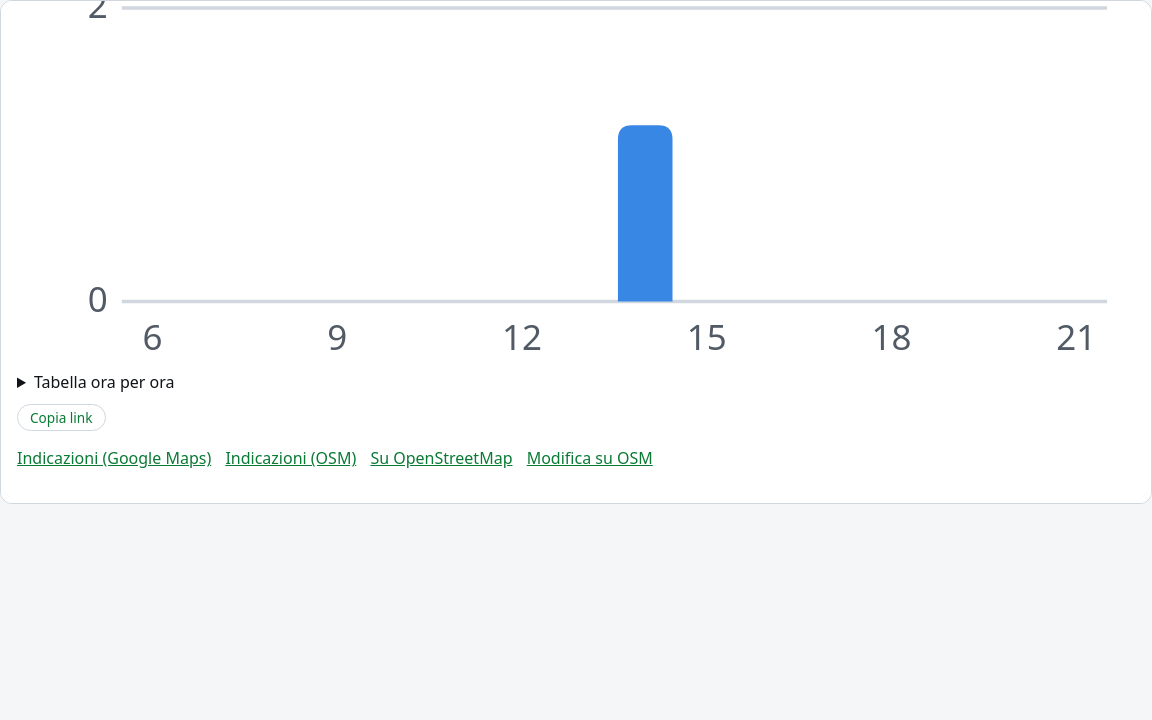
Test case: share (CG-44) › copies the link where the browser has no share sheet
(page scrolled)
Step 1. Click the button "Copia link" → coordinates (61, 418), box [17,404,106,431]
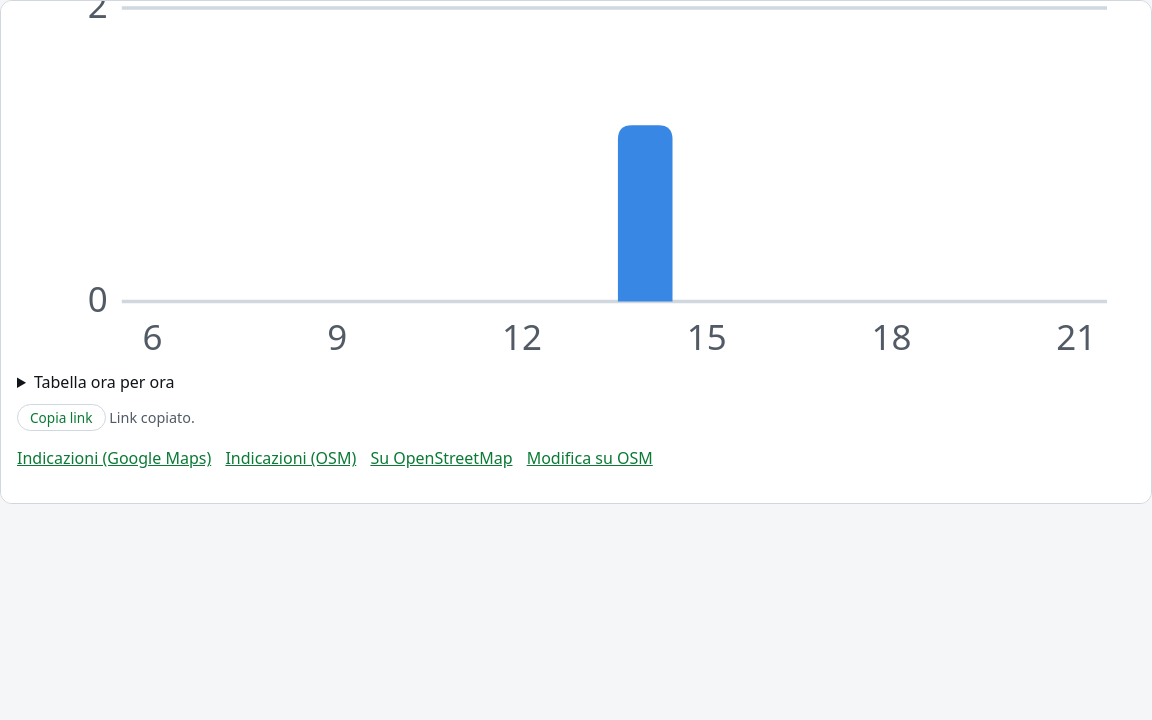
Expected: the text "Link copiato." is shown, [106,408,195,427]
